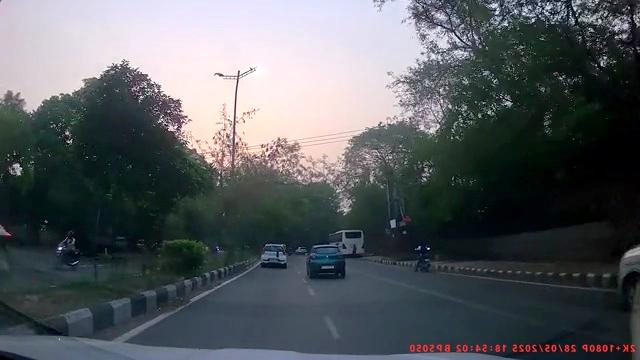motorcycle_with_helmet: (55, 229, 80, 267)
